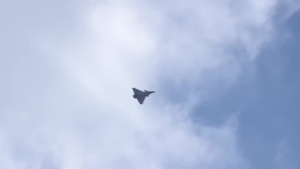flight: (132, 86, 156, 104)
